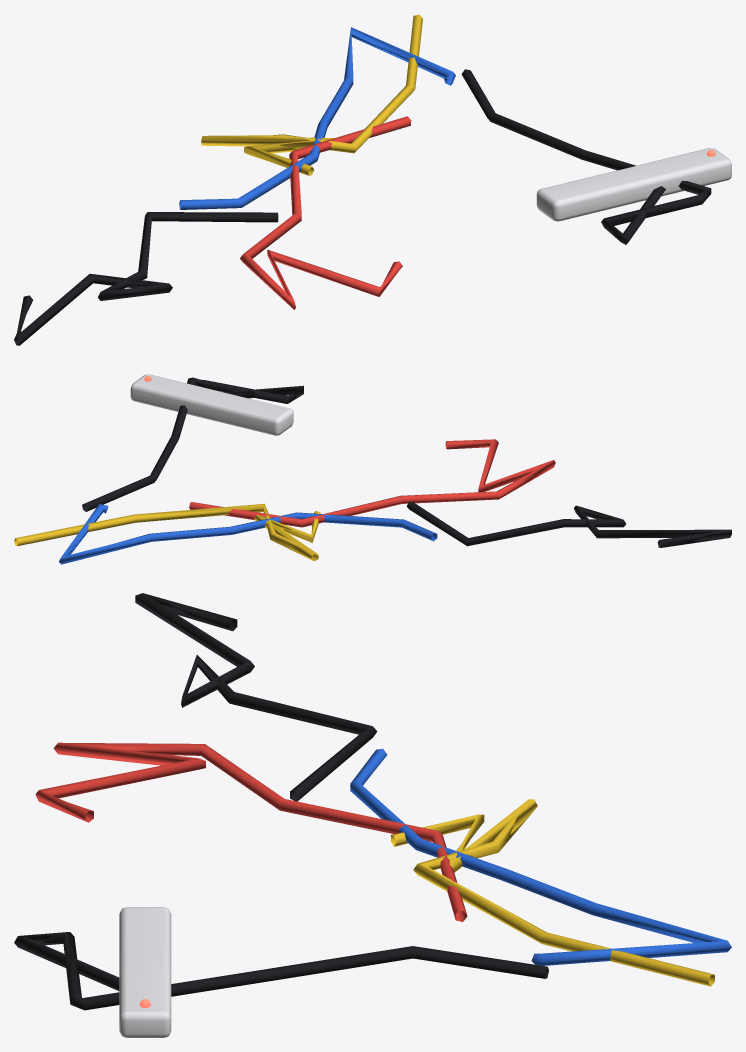
The model's file is CableMess.fbx.
The picture shows the model from 3 angles, top to bottom: view 1: azimuth 30°, elevation 25°; view 2: azimuth 150°, elevation 25°; view 3: azimuth 270°, elevation 25°; orthographic projection. The views are drawn at different scales.
Visible parts, largest first — view 1: CableMessBody; view 2: CableMessBody; view 3: CableMessBody.
Part boxes in pixels (box(x1,y1,x2,y2)): CableMessBody: box(14, 14, 731, 345); CableMessBody: box(14, 374, 731, 564); CableMessBody: box(14, 593, 731, 1037).
Size of the model in its own units: 1.38 by 0.05 by 0.9672.
